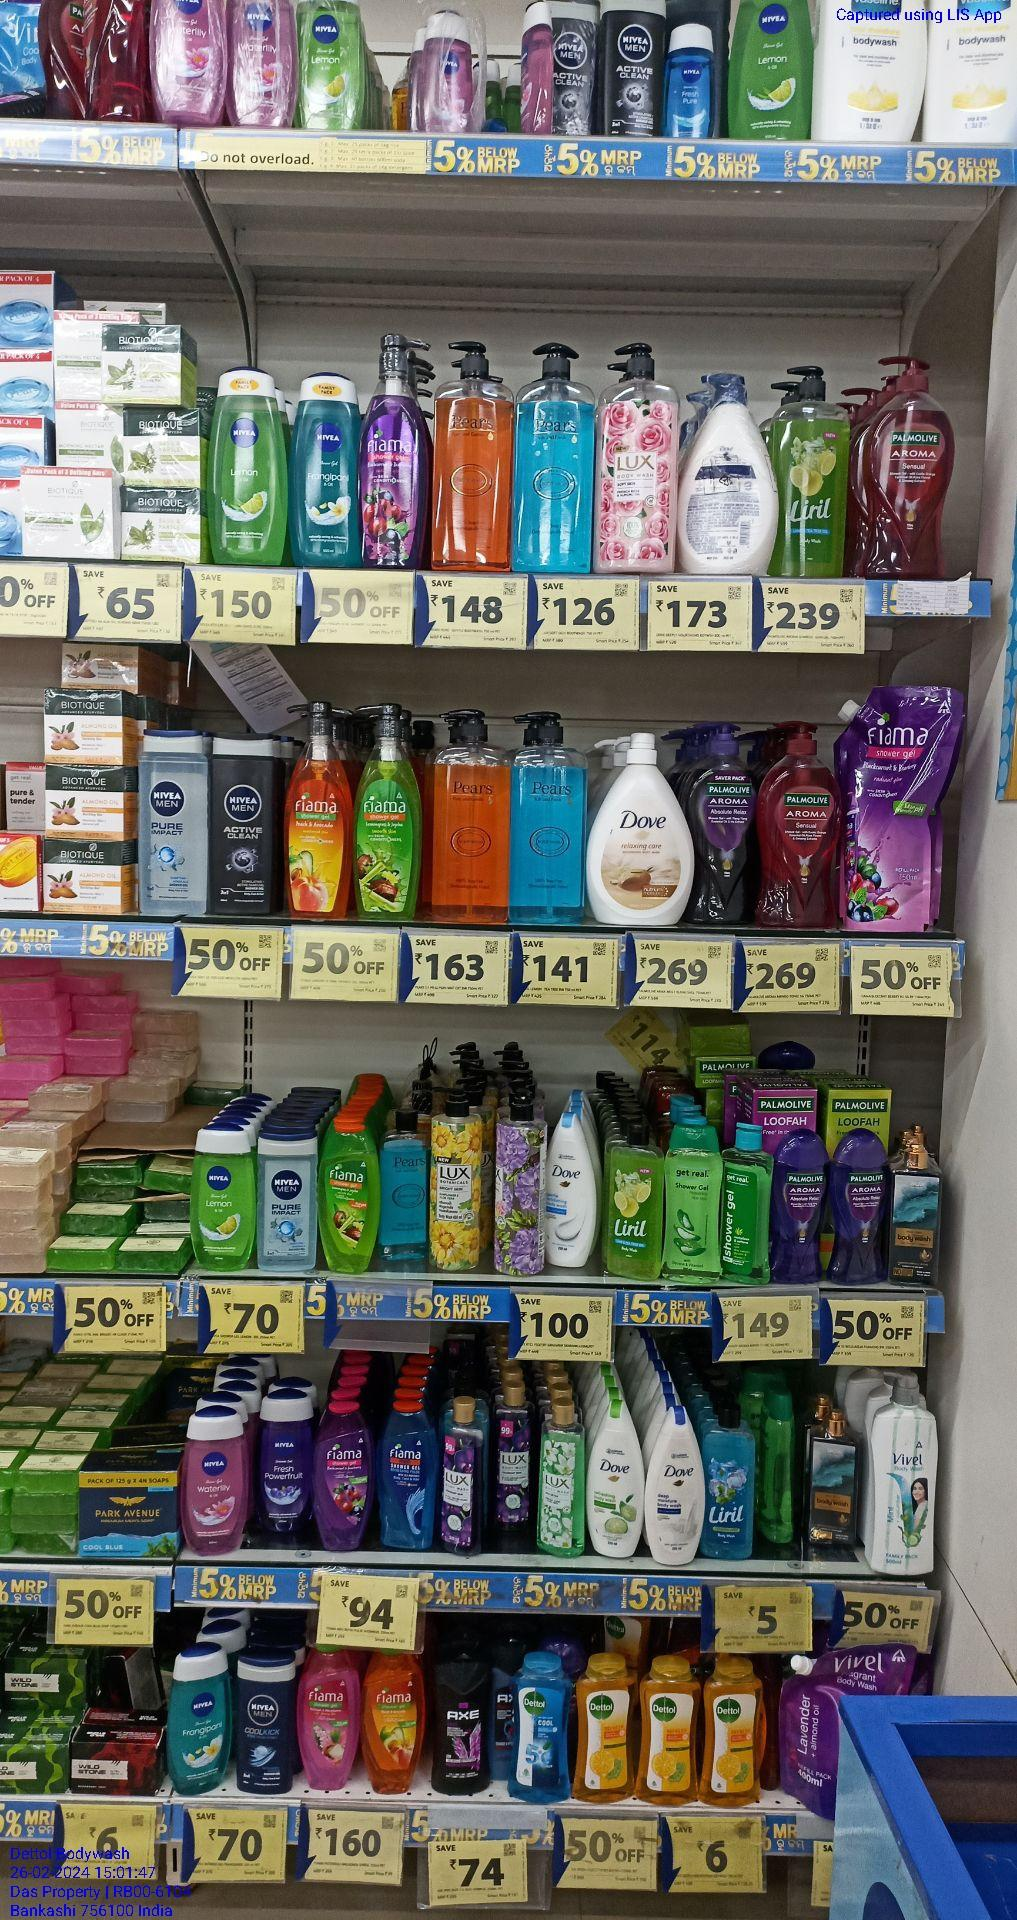Dettol_Bodywash_Cool: (509, 1656, 570, 1803)
Dettol_Bodywash_Refresh: (702, 1661, 759, 1810), (579, 1657, 634, 1804), (641, 1657, 695, 1807)
Dove_Deep_Moisture_Body_Wash_250ML: (648, 1410, 703, 1566)
Dove_Gentle_Exfoliating_Body_Wash_250ML: (545, 1110, 590, 1269)
Dove_Refreshing_Body_Wash_250ML: (589, 1401, 640, 1561)
Fiama_Shower_Gel_Lemongrass_and_Jojoba_250ML: (322, 1126, 376, 1277)
Fiama_Shower_Gel_Patchouli_and_Macadamia_250ML: (301, 1644, 354, 1793)
Fiama_Shower_Gel_Peach_and_Avocado_250ML: (363, 1652, 420, 1797)
Liril_Lime_and_Tea_Tree_Oil_Body_Wash_250ML: (608, 1126, 658, 1281), (707, 1408, 757, 1562)
Lux_Black_Orchid_Scent_and_Juniper_Oil_Body_Wash_245ML: (490, 1379, 535, 1529), (439, 1401, 477, 1558)
Lux_Body_Wash_Skin_Detox_Freesia_Scent_and_Alove_Vera_245ML: (538, 1401, 584, 1557)
Nivea_Shower_Gel_Frangipani_and_Oil_250ML: (292, 375, 363, 571), (169, 1650, 236, 1797)
Nivea_Shower_Gel_Lemon_and_Oil_250ML: (204, 370, 288, 568), (733, 0, 810, 142), (192, 1129, 249, 1271), (300, 1, 358, 133)
Nivea_Shower_Gel_Waterlily_and_Oil_250ML: (226, 0, 296, 124), (152, 0, 221, 124), (184, 1417, 245, 1556)
Palmolive_Aroma_Relax_250ML: (832, 1130, 889, 1288), (773, 1128, 829, 1283)
Pears_Pure_Glycerin_and_Mint_Extracts_Body_Wash_250ML: (383, 1109, 427, 1261)
